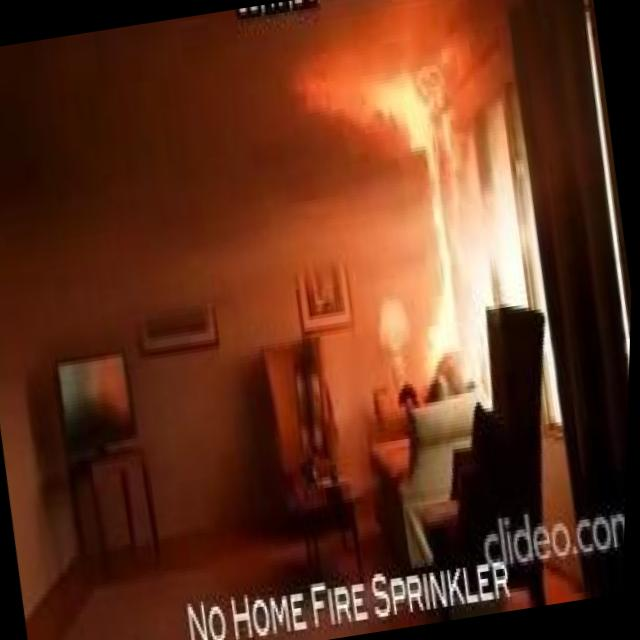fire: (306, 50, 455, 180), (397, 158, 469, 350)
